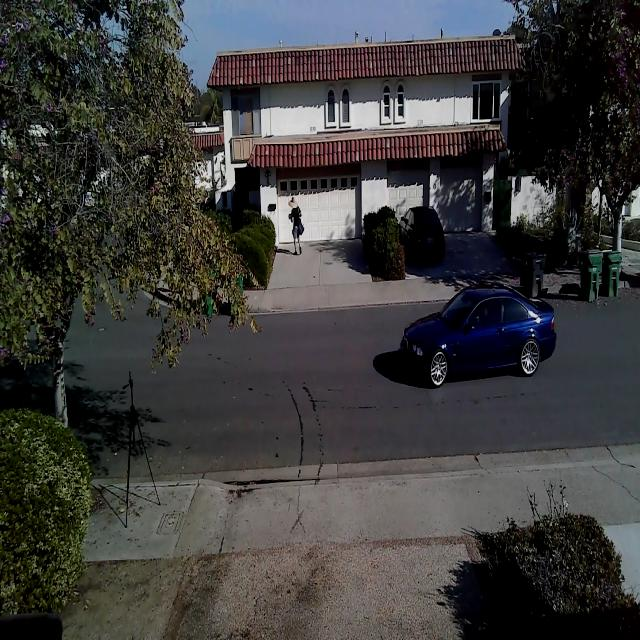Carbeetle: (392, 280, 559, 394)
Civilian: (399, 205, 445, 263)
